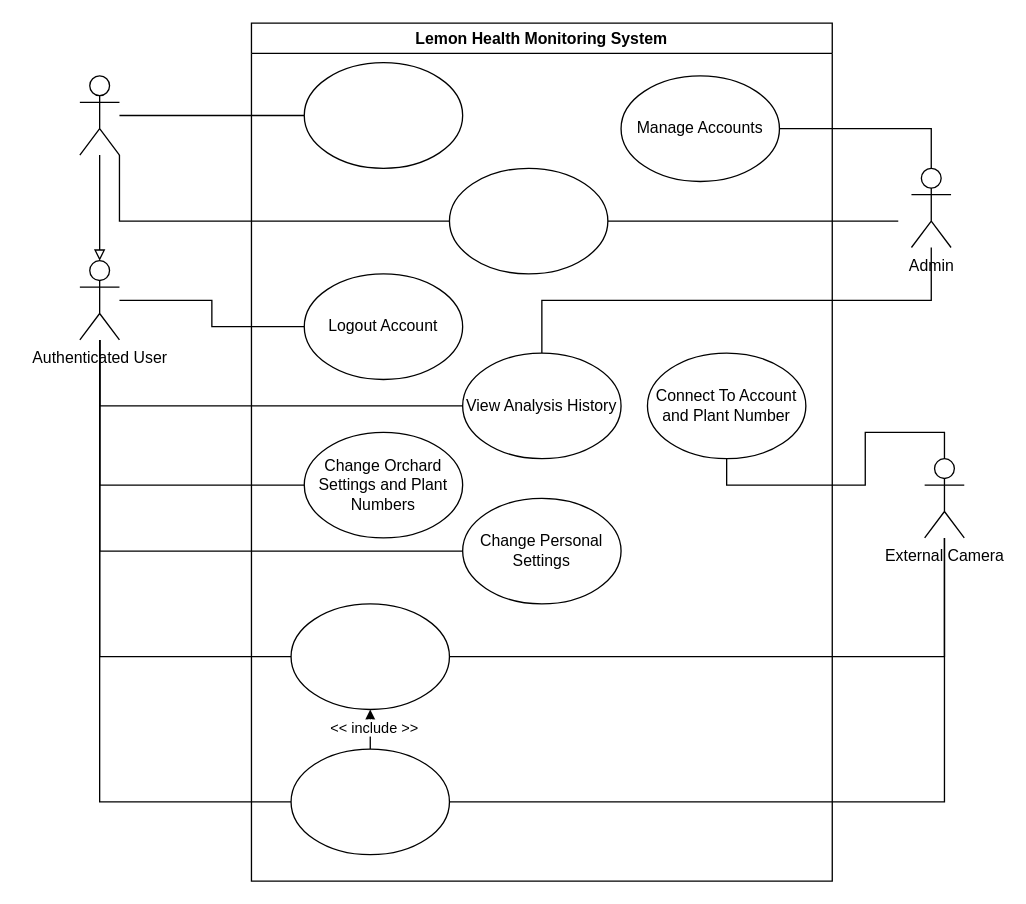
Some shapes in this 1026 by 904 pixel diagram are drawn without their labels. The shapes that lost their labels are listed below. From the top down, each one's box as (x1, y1, x2, y2) in pixels, then its label:
(79, 75, 119, 155): Unauthenticated User
(303, 61, 463, 168): Create Account
(448, 167, 608, 274): Login Account
(290, 603, 449, 710): Upload Photograph and Plant Number
(290, 748, 449, 855): Run Analysis
